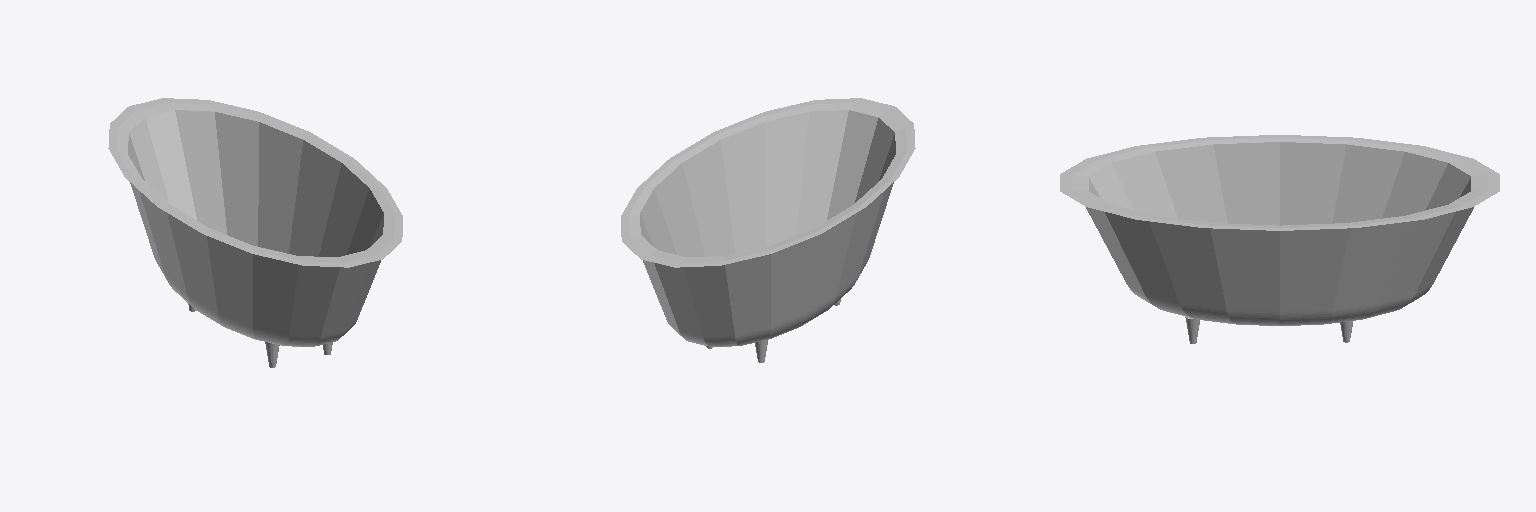
File: badewanne.obj
3 renders of one model, left to right at view 1: azimuth 30°, elevation 25°; view 2: azimuth 150°, elevation 25°; view 3: azimuth 270°, elevation 25°, orthographic.
Parts seen in each view (by area): view 1: Cylinder001; view 2: Cylinder001; view 3: Cylinder001.
Boxes of the visible parts, x1,y1,x2,y2 form: Cylinder001: [108, 98, 402, 346]; Cylinder001: [621, 98, 915, 346]; Cylinder001: [1060, 135, 1499, 325].
Bounding box in the file's own units: 13.66 × 9.68 × 26.43.